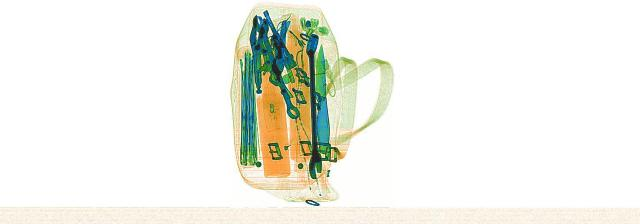Gun: (236, 9, 302, 70)
Knife: (310, 44, 328, 150)
